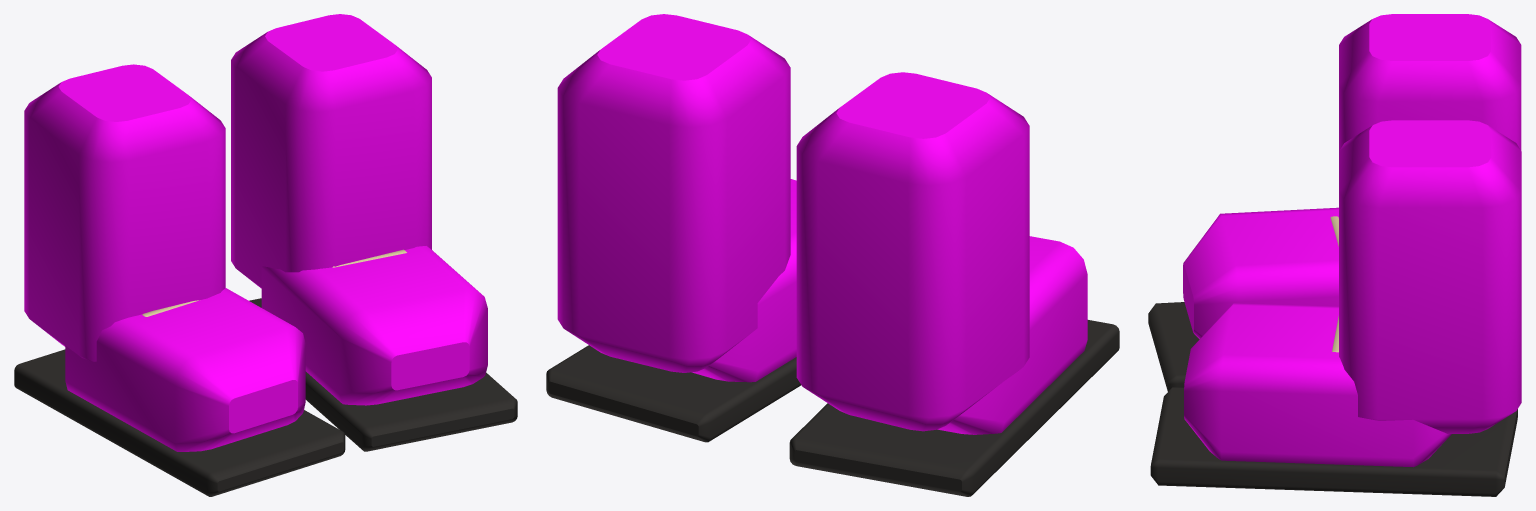
File: objet_bottes.glb
3 renders of one model, left to right at view 1: azimuth 30°, elevation 25°; view 2: azimuth 150°, elevation 25°; view 3: azimuth 270°, elevation 25°, orthographic. The views are drawn at different scales.
Parts seen in each view (by area): view 1: bottes_teinte.008, bottes_semelle.008; view 2: bottes_teinte.008, bottes_semelle.008; view 3: bottes_teinte.008, bottes_semelle.008.
Boxes of the visible parts, <box> form: bottes_teinte.008: <box>24,14,487,451</box>; bottes_semelle.008: <box>14,298,517,496</box>; bottes_teinte.008: <box>557,14,1087,434</box>; bottes_semelle.008: <box>546,320,1119,496</box>; bottes_teinte.008: <box>1183,14,1521,467</box>; bottes_semelle.008: <box>1148,302,1517,496</box>.
Bounding box in the file's own units: 0.2207 × 0.171 × 0.184.
